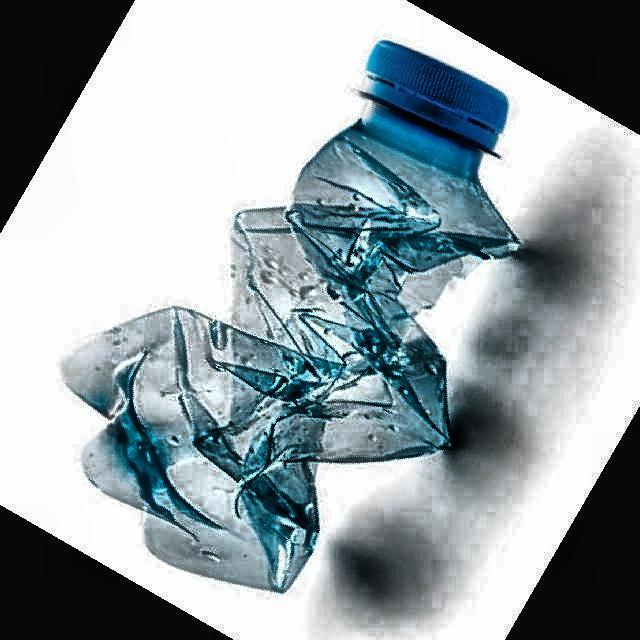plastic: (64, 42, 519, 592)
